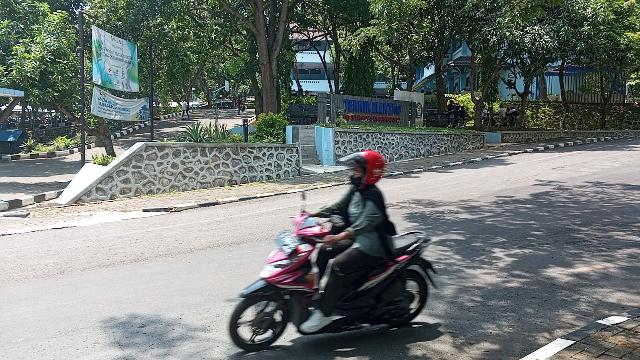helm: (341, 151, 386, 186)
motor: (232, 213, 440, 353)
